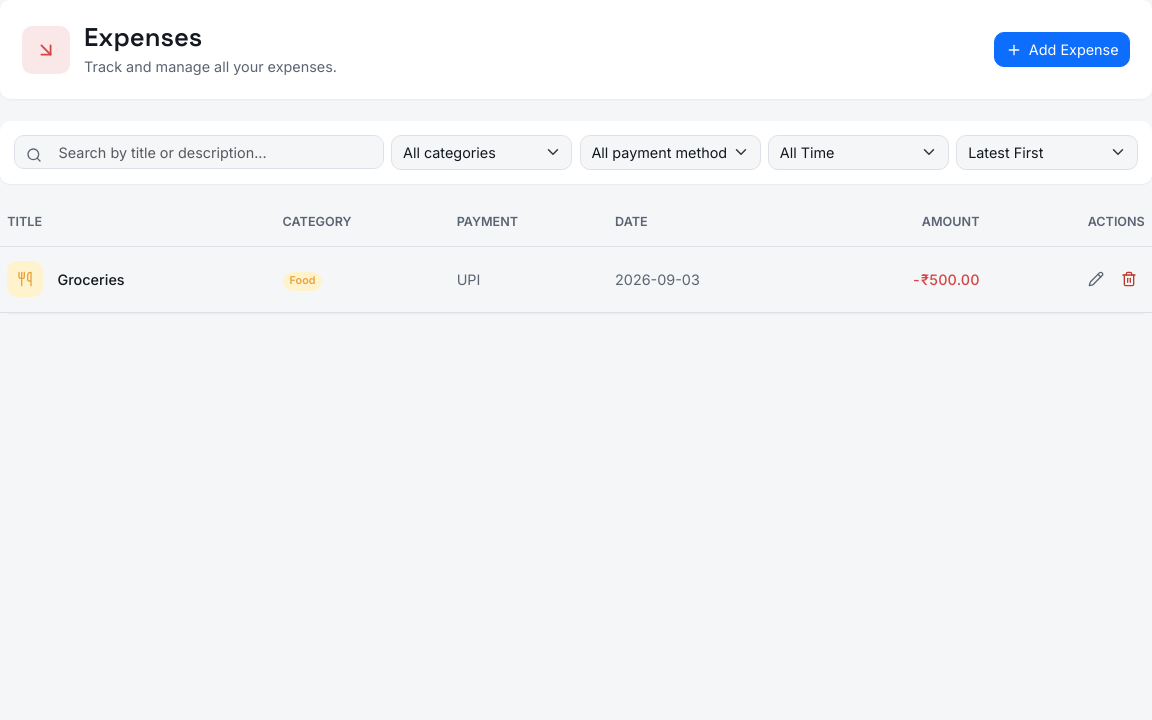
Expenses page — budget threshold toasts › shows a threshold toast on an edit that changes utilization enough to cross it
Click the button named "Edit": coordinates (1096, 279) top-left (1080, 265), bottom-right (1112, 293)
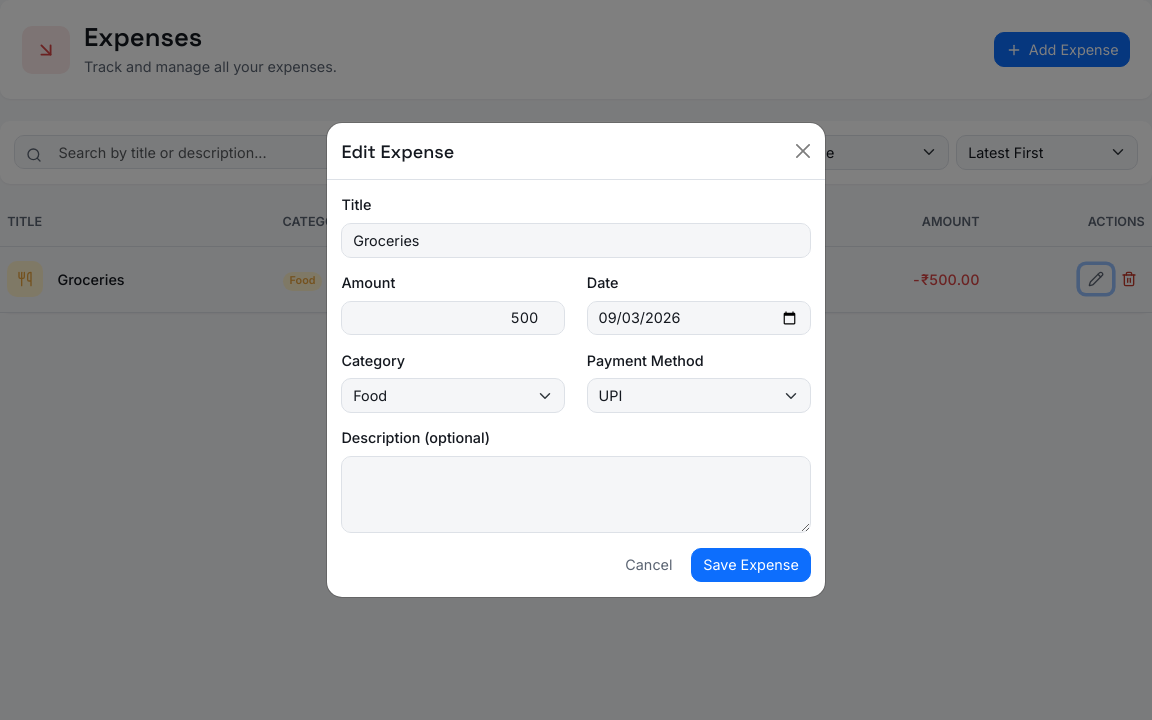
Replace the text in the number field labelled "Amount" with "900": coordinates (453, 318) top-left (341, 301), bottom-right (565, 335)
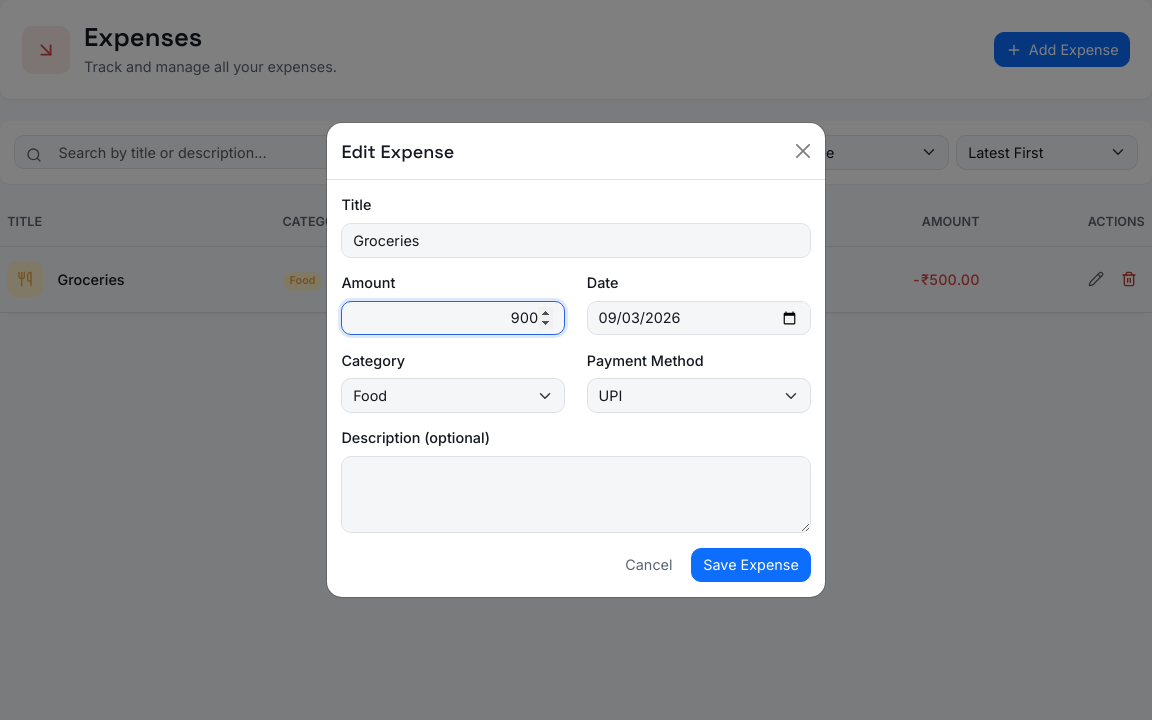
Click the button "Save Expense": coordinates (751, 565) top-left (692, 548), bottom-right (811, 582)
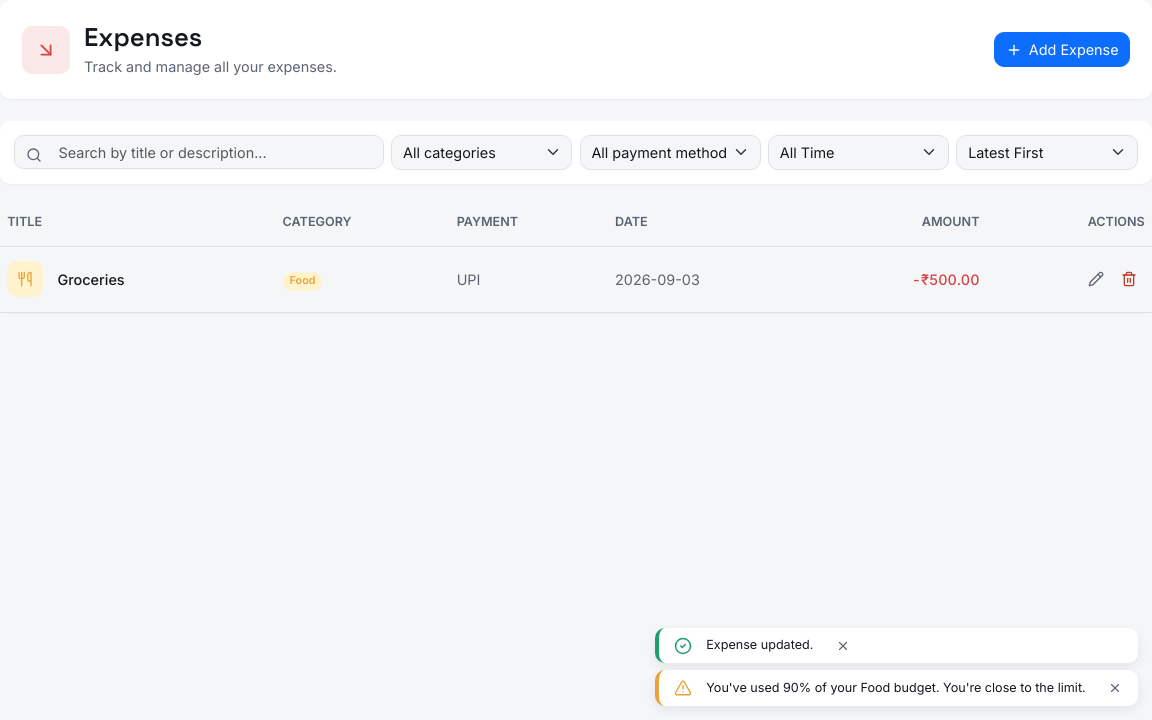
Now the text "You've used 90% of your Food budget. You're close to the limit." is shown, box top-left (706, 678), bottom-right (1086, 697)
